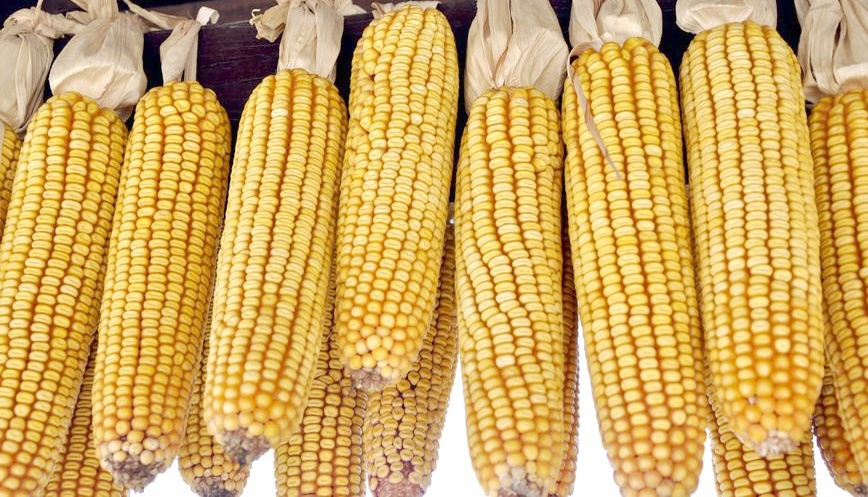corn: (562, 42, 706, 490), (679, 21, 823, 453), (338, 5, 458, 390), (1, 93, 117, 481), (458, 92, 566, 497), (220, 74, 323, 456), (107, 90, 195, 476)
